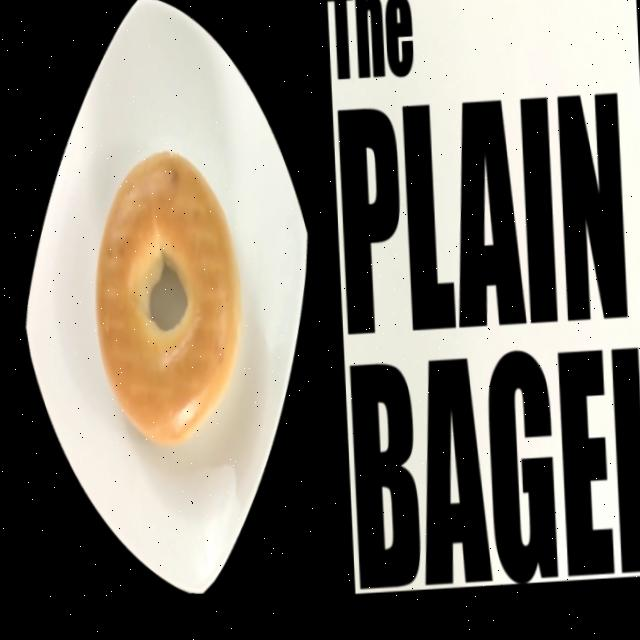Bagel: (93, 153, 238, 446)
